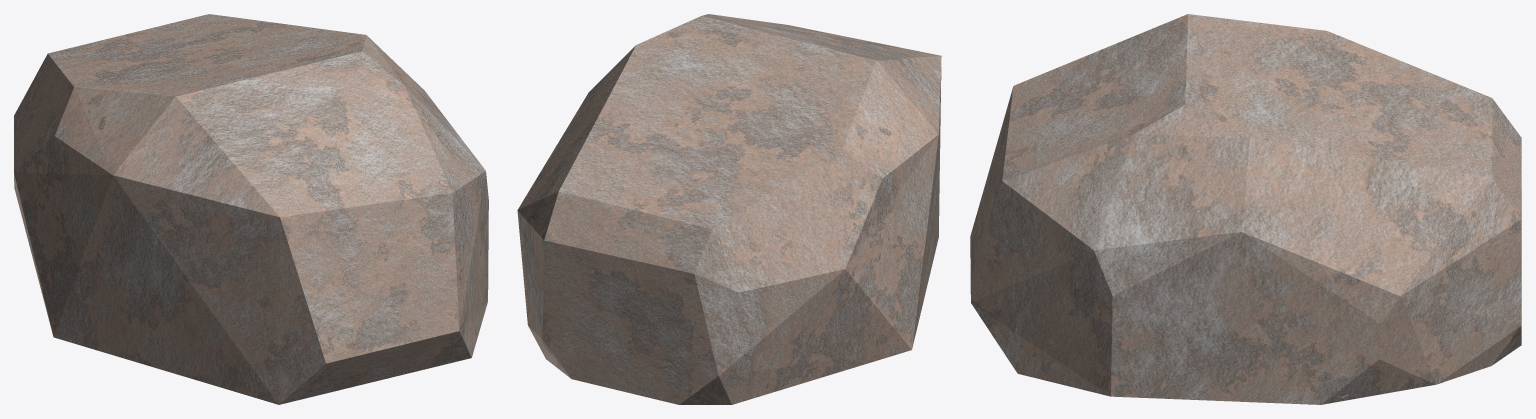
The model's file is stone2.fbx.
3 renders of one model, left to right at view 1: azimuth 30°, elevation 25°; view 2: azimuth 150°, elevation 25°; view 3: azimuth 270°, elevation 25°, orthographic. The views are drawn at different scales.
Parts seen in each view (by area): view 1: Group48906; view 2: Group48906; view 3: Group48906.
Boxes of the visible parts, box(x1,y1,x2,y2) form: Group48906: box(14, 14, 488, 404); Group48906: box(517, 14, 941, 404); Group48906: box(970, 14, 1521, 404).
Size of the model in its own units: 181 by 124 by 241.
